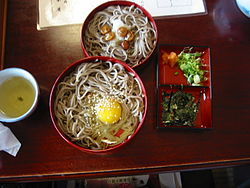Soba: (51, 56, 148, 152), (82, 3, 158, 72)
